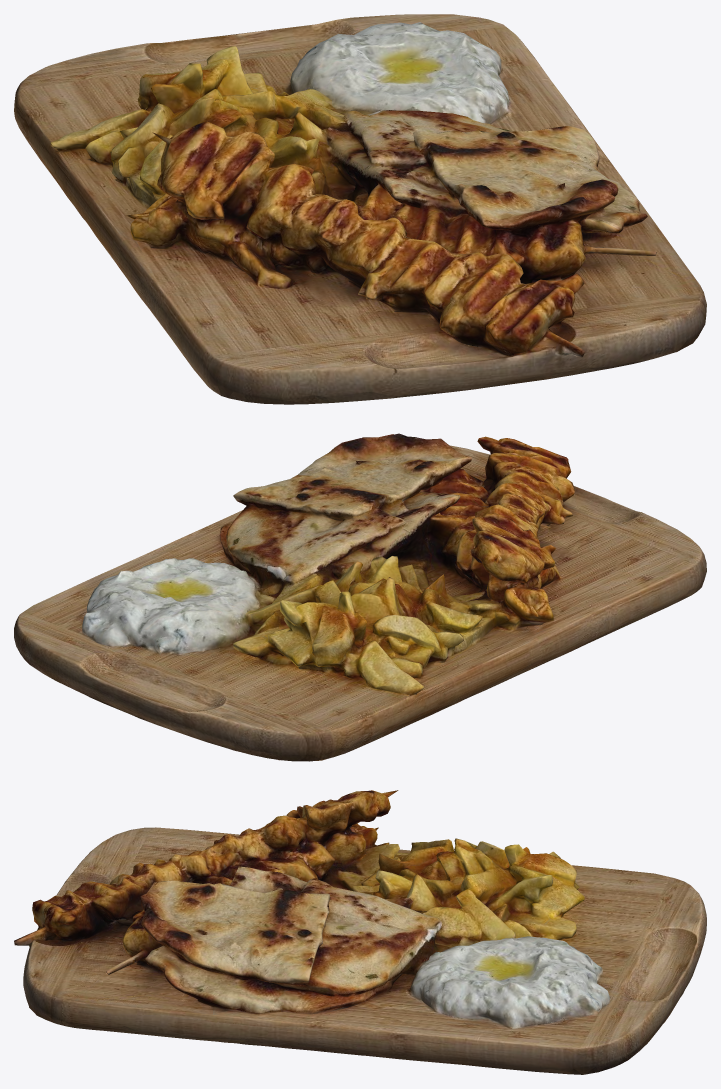
The model's file is souvlaki-grego-mobile.glb.
The picture shows the model from 3 angles, top to bottom: view 1: azimuth 30°, elevation 25°; view 2: azimuth 150°, elevation 25°; view 3: azimuth 270°, elevation 25°; orthographic projection. The views are drawn at different scales.
Visible parts, largest first — view 1: Object_4; view 2: Object_4; view 3: Object_4.
Part boxes in pixels (bbox=[...]): Object_4: bbox=[14, 14, 706, 404]; Object_4: bbox=[14, 433, 706, 761]; Object_4: bbox=[14, 790, 706, 1074].
Size of the model in its own units: 0.2401 by 0.0565 by 0.3137.
2 materials, 1 textured.
